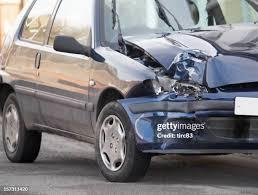dent: (97, 16, 246, 144)
